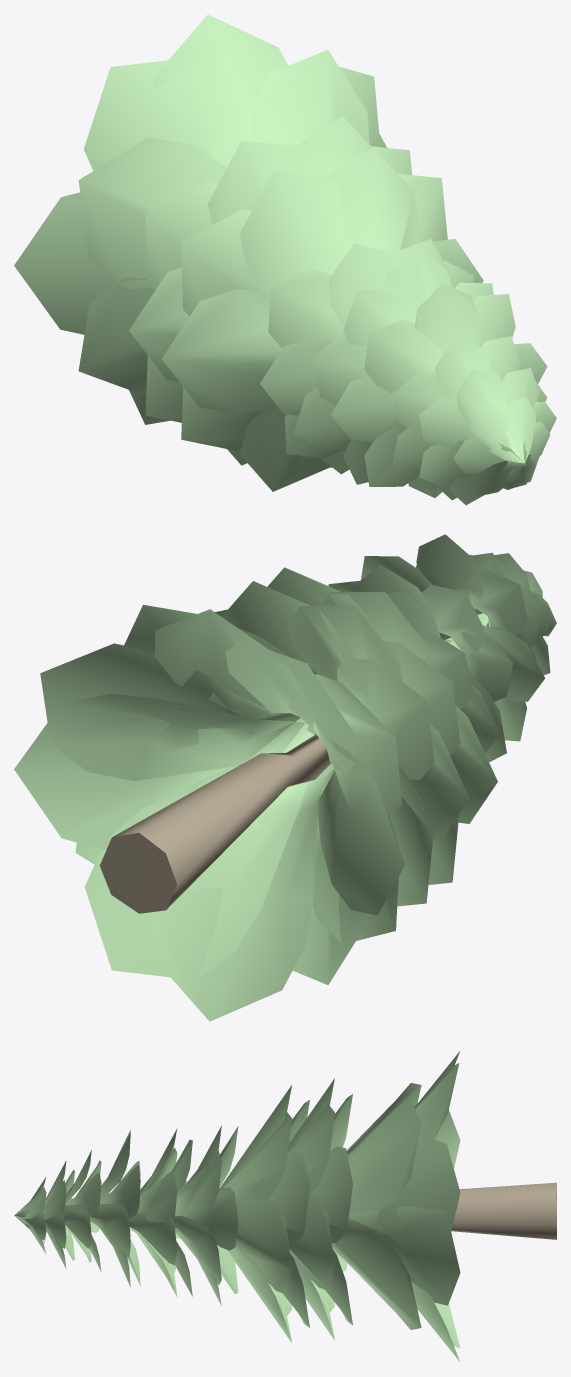
File: tree_needle_new.glb
3 views of the same model, one above another, from view 1: azimuth 30°, elevation 25°; view 2: azimuth 150°, elevation 25°; view 3: azimuth 270°, elevation 25° (orthographic). The views are drawn at different scales.
Visible parts, largest first — view 1: Leaves6_0; view 2: Leaves6_0, TreeSpruce_0; view 3: Leaves6_0, TreeSpruce_0.
Part boxes in pixels (box(x1,y1,x2,y2)): Leaves6_0: box(14, 14, 556, 505); Leaves6_0: box(14, 534, 556, 1021); TreeSpruce_0: box(99, 734, 331, 913); Leaves6_0: box(14, 1051, 460, 1361); TreeSpruce_0: box(451, 1182, 556, 1239).
Bounding box in the file's own units: 5.66 × 5.7 × 9.81.
